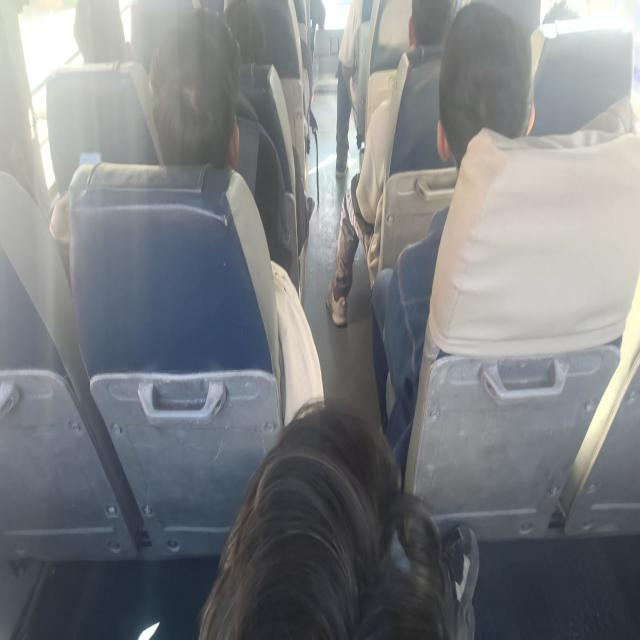person: (370, 1, 535, 478), (147, 7, 325, 426), (198, 398, 480, 638), (326, 0, 456, 327), (334, 0, 374, 178)
